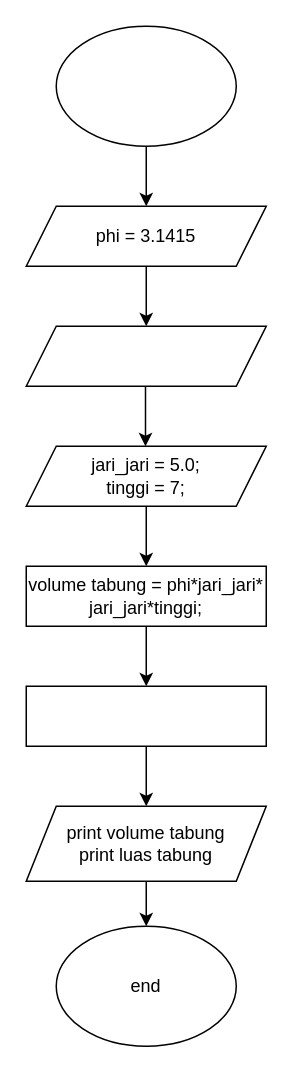
The diagram is 293 pixels wide and 1073 high, and some of its shapes have lost their labels. Here are the shapes that lost their labels. From the top down, the centre of each, then its label:
point (145, 85): START
point (145, 355): float jari_jari, tinggi, volume, luas;
point (145, 715): luas tabung = 2*phi*jari_jari* tinggi;
